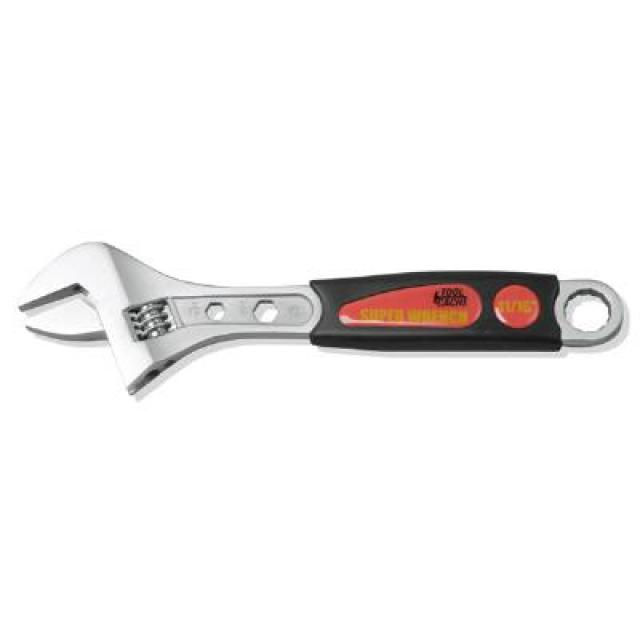wrench: (0, 214, 544, 413)
